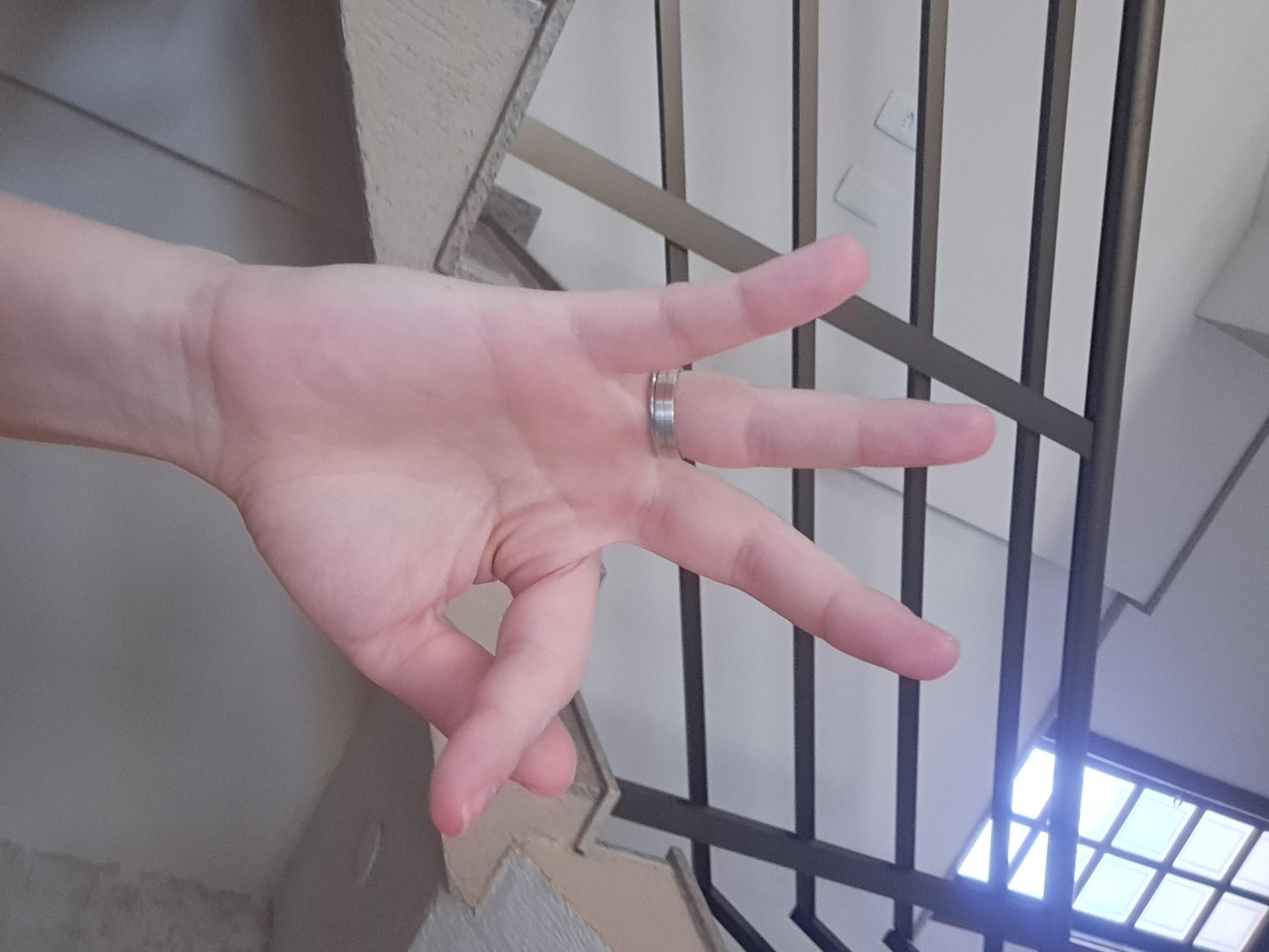F: (285, 190, 1130, 793)
